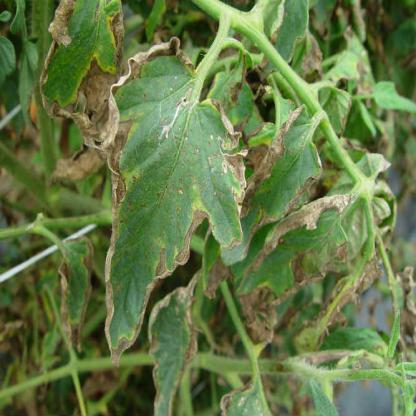Tomato leaf late blight: (82, 14, 248, 367)
